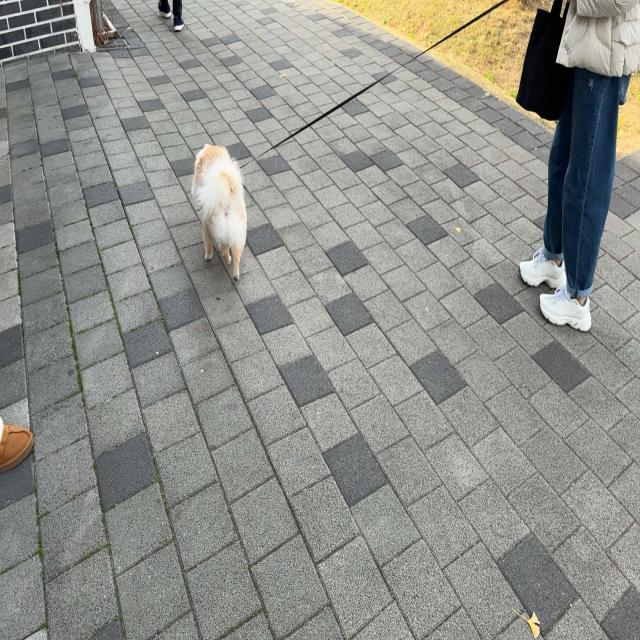Leashed_Dog: (191, 0, 591, 282)
